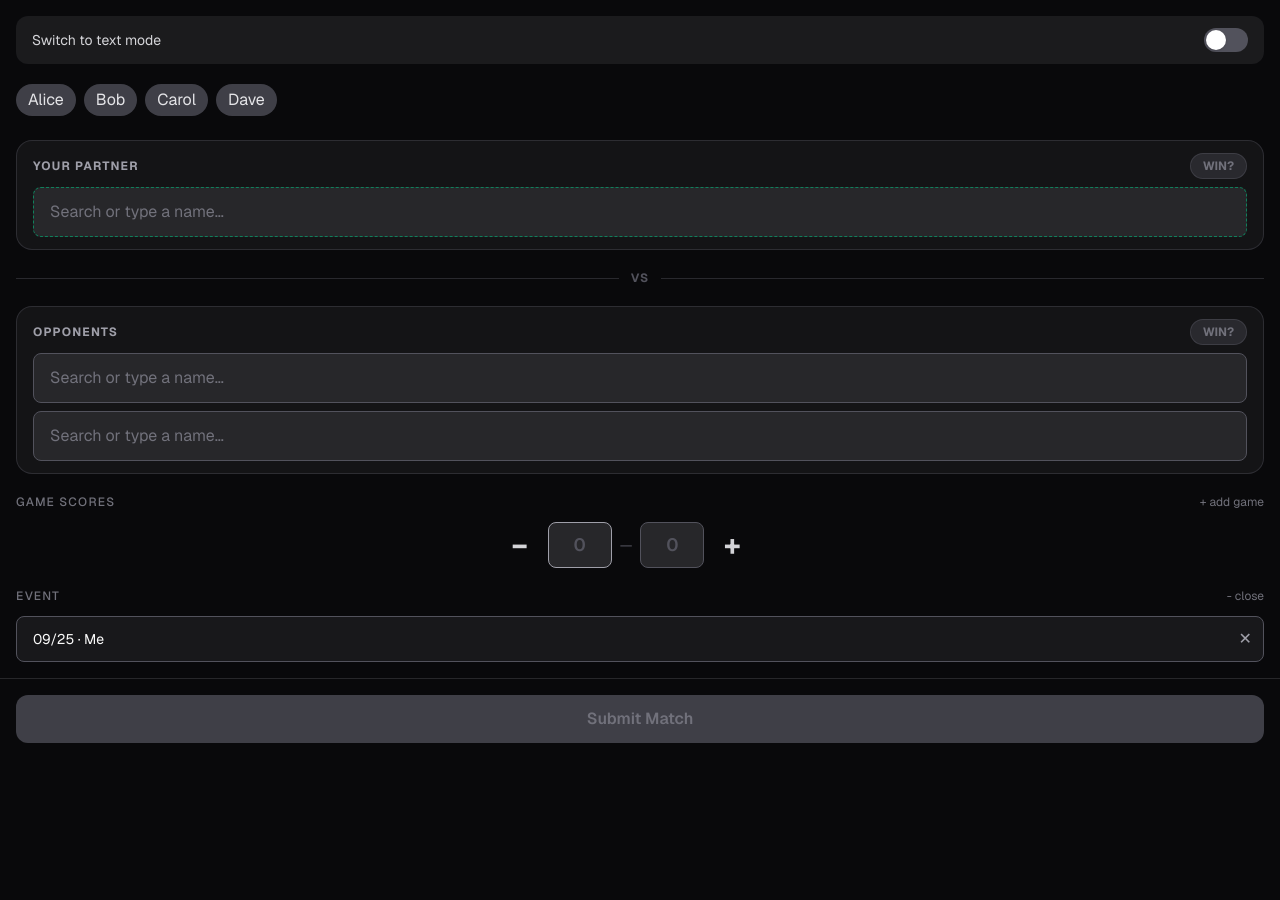
Enter Match — next-slot highlight › shows no highlight once every slot is filled
The width and height of the screenshot is (1280, 900).
What coordinates should you click on to do the following:
click the button "Alice"
I would click on:
 (46, 100)
Its box is [16,84,76,116].
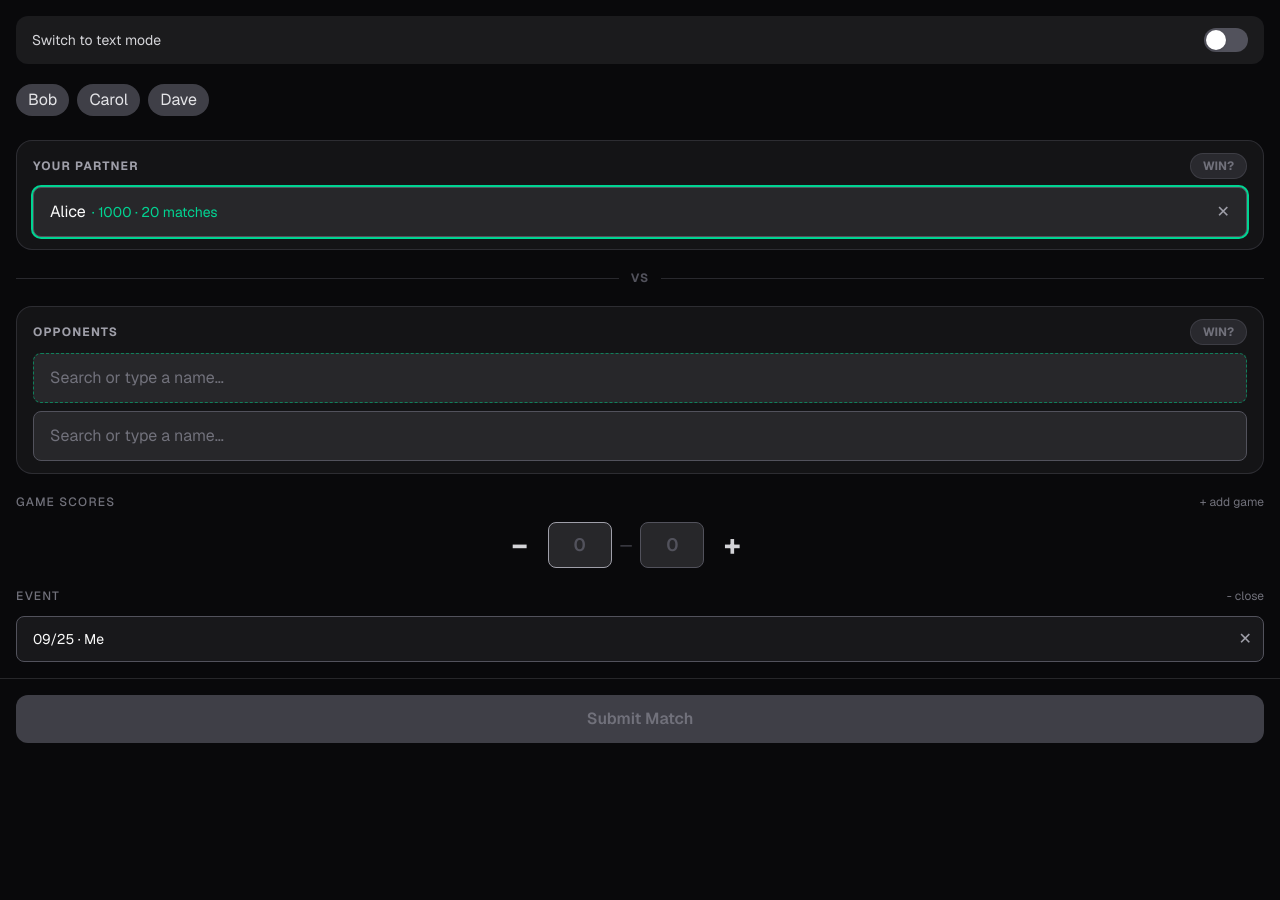
What coordinates should you click on to do the following:
click the button "Bob"
I would click on:
 (43, 100)
Its box is [16,84,69,116].
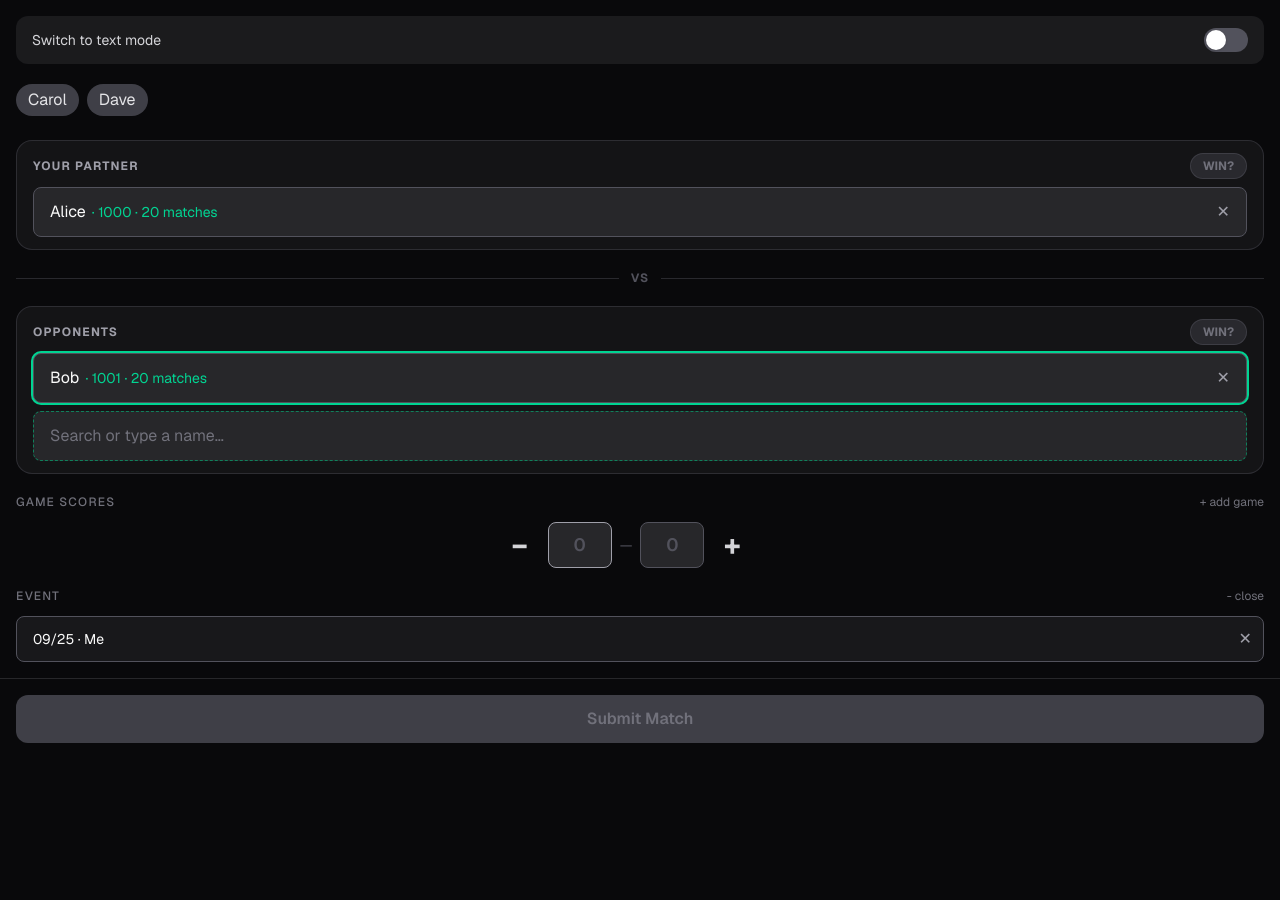
What coordinates should you click on to do the following:
click the button "Carol"
I would click on:
 (47, 100)
Its box is [16,84,79,116].
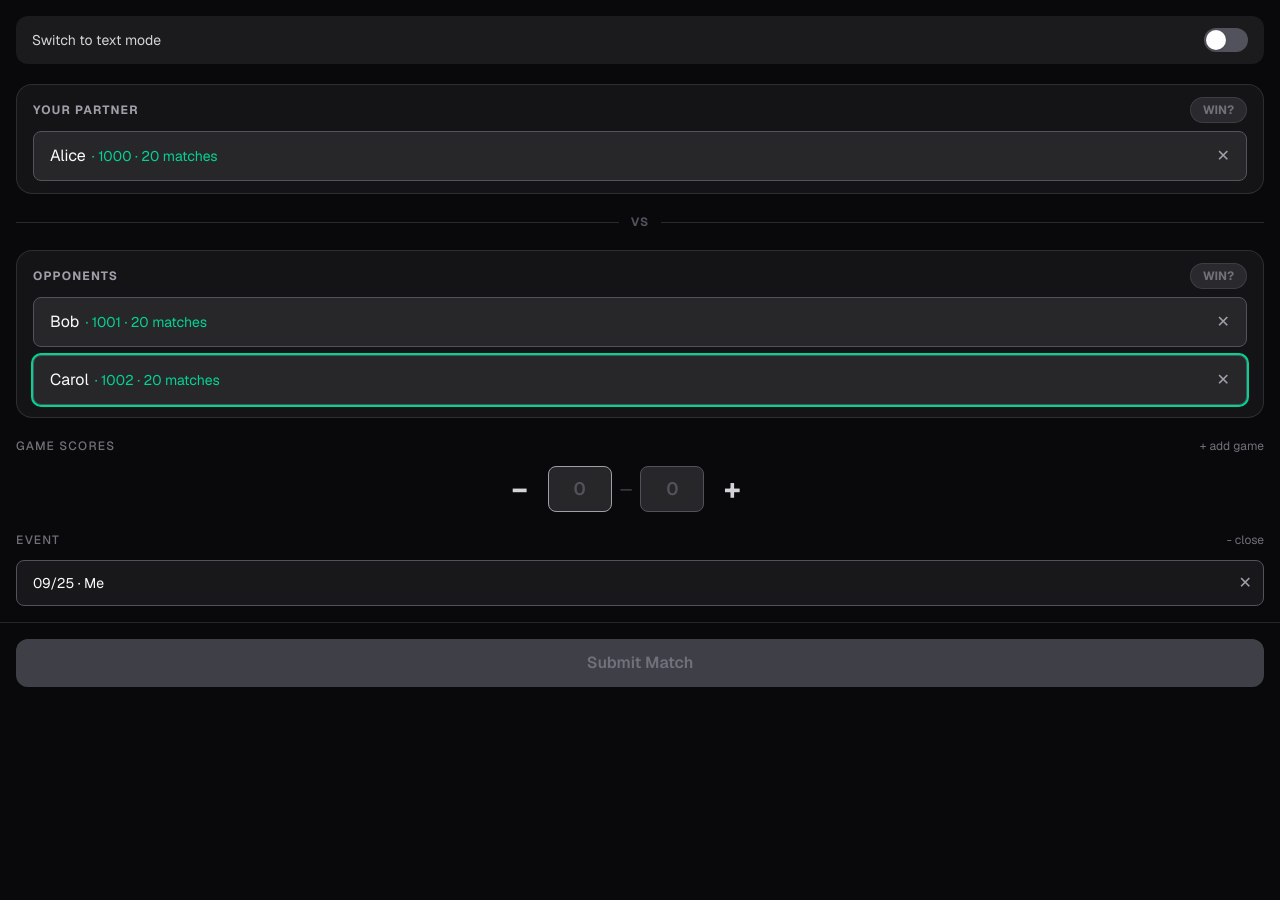
Now the field is gone
